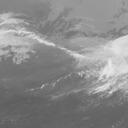cyclone: (48, 42, 113, 90)
